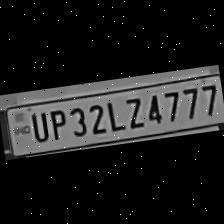2: (83, 100, 108, 136)
3: (64, 102, 87, 136)
4: (140, 90, 164, 125)
7: (196, 80, 222, 117), (178, 84, 202, 119), (160, 88, 182, 122)
L: (103, 96, 125, 132)
P: (45, 105, 69, 141)
U: (26, 108, 48, 142)
Z: (120, 93, 144, 129)
